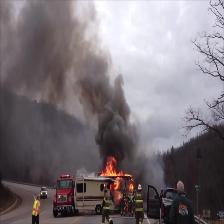fire: (96, 156, 138, 192)
smoke: (0, 0, 83, 76), (92, 94, 127, 157)
